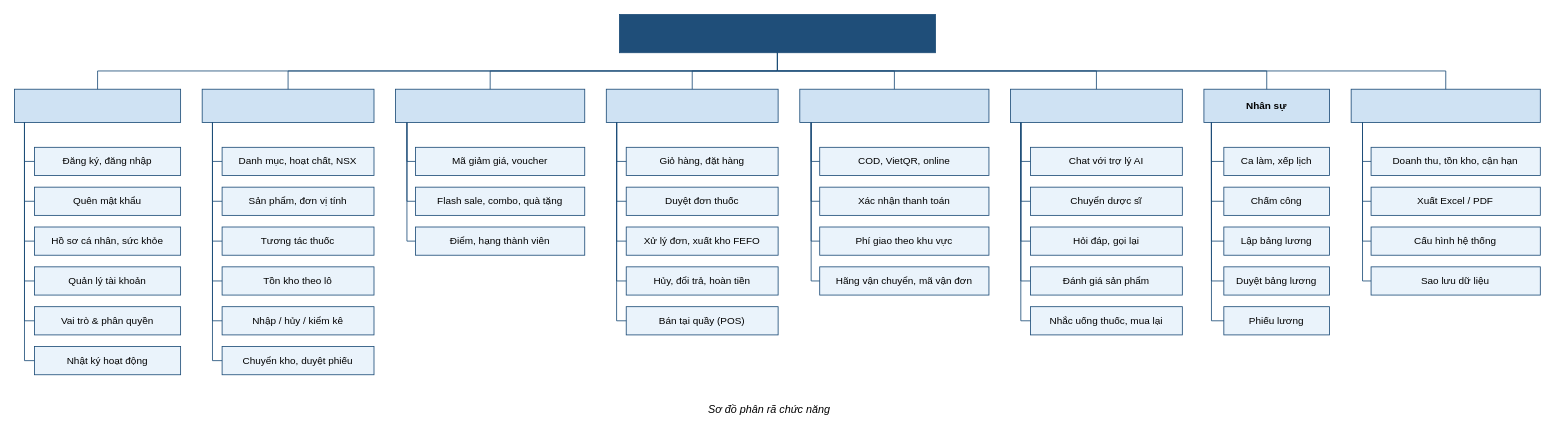
Image size: 1555x434. Some labels were removed from this diagram. Each missing label, with the box of its shape:
Báo cáo & hệ thống: (1350, 88, 1540, 122)
Hệ thống bán thuốc trực tuyến VinaPharma: (619, 14, 935, 53)
Khuyến mãi: (395, 88, 585, 122)
Người dùng & phân quyền: (14, 88, 181, 122)
Sản phẩm & kho: (201, 88, 374, 122)
Thanh toán & vận chuyển: (799, 88, 989, 122)
Tư vấn & chăm sóc: (1010, 88, 1182, 122)
Đơn hàng & đơn thuốc: (605, 88, 778, 122)
